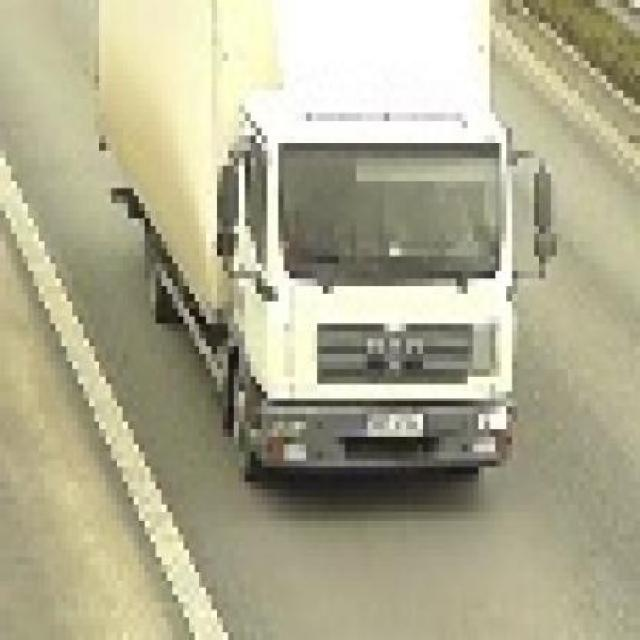truck: (107, 1, 558, 490)
